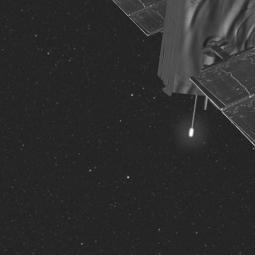smart_1: (144, 0, 255, 118)
